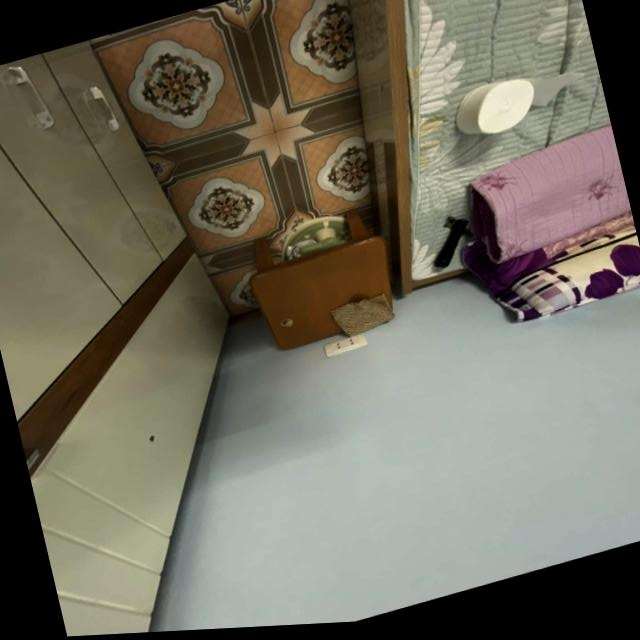outlet: (322, 333, 367, 358)
